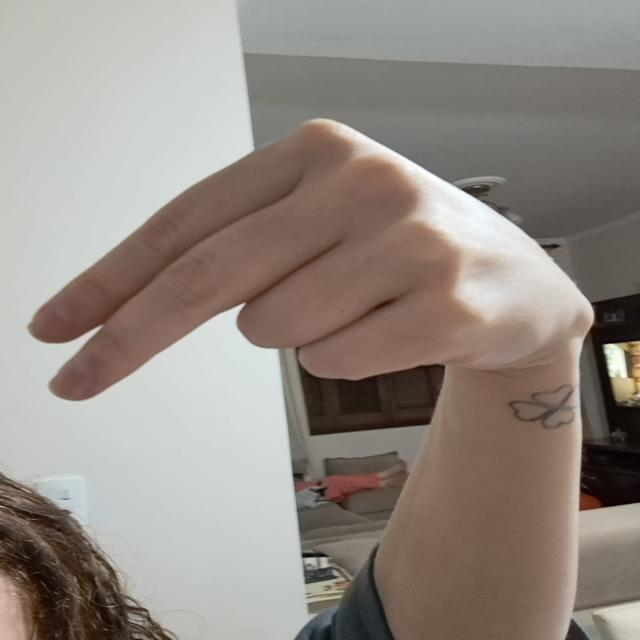N: (18, 104, 594, 408)
